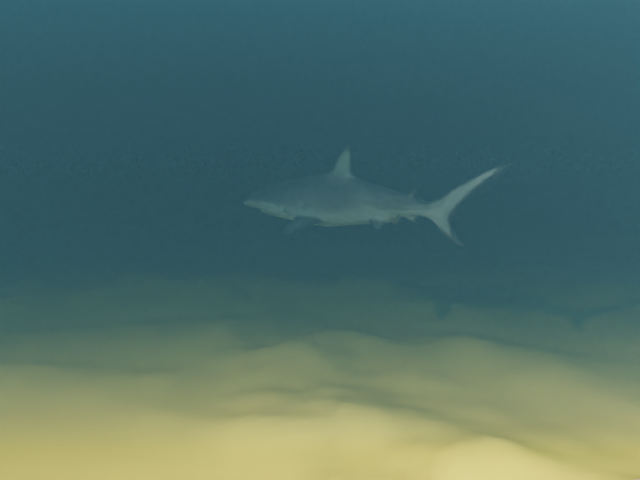Carribean Shark.001: (242, 144, 511, 246)
